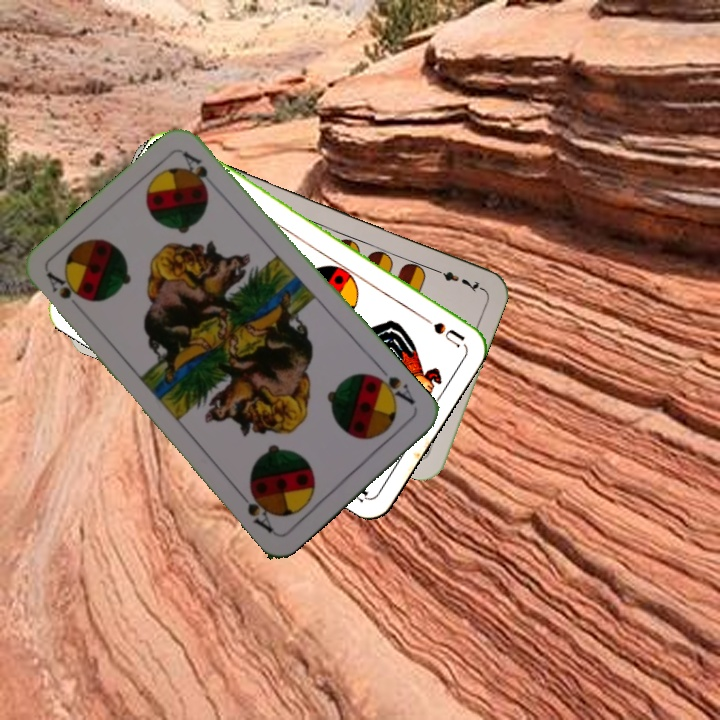E7: (427, 263, 484, 294)
SA: (42, 267, 89, 316), (368, 363, 418, 408)
SU: (412, 308, 467, 348)
